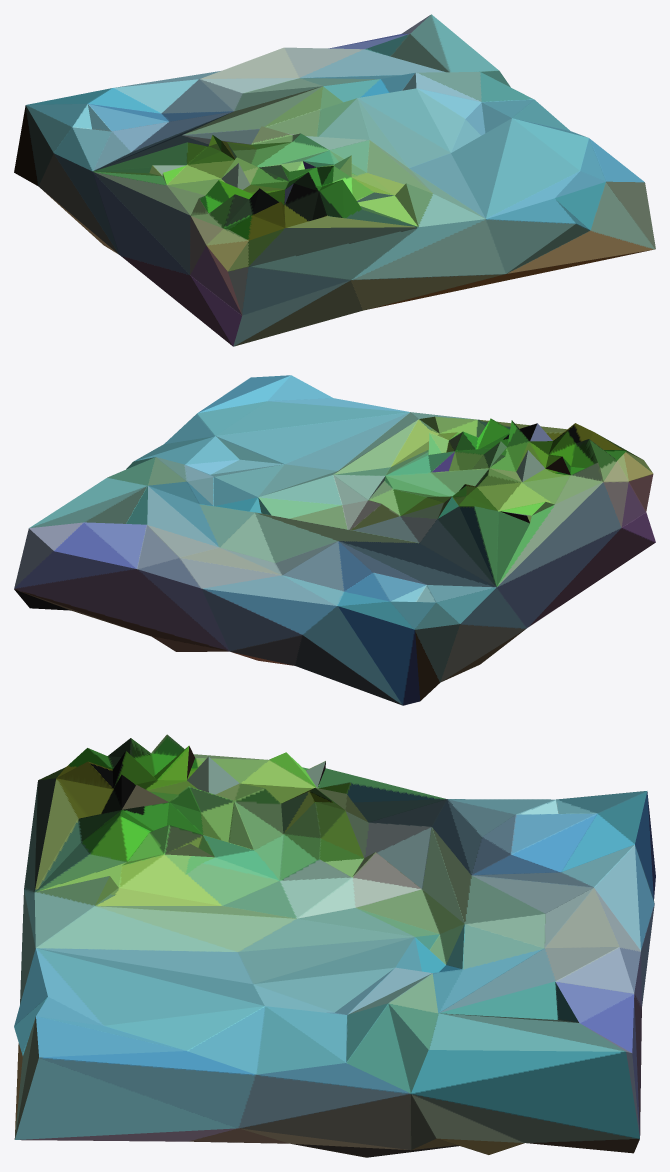
Rendered from lake.fbx.
3 views of the same model, one above another, from view 1: azimuth 30°, elevation 25°; view 2: azimuth 150°, elevation 25°; view 3: azimuth 270°, elevation 25° (orthographic). The views are drawn at different scales.
Parts seen in each view (by area): view 1: Mesh_0; view 2: Mesh_0; view 3: Mesh_0.
Boxes of the visible parts, box(x1,y1,x2,y2) form: Mesh_0: box(14, 14, 655, 346); Mesh_0: box(14, 375, 655, 705); Mesh_0: box(14, 734, 655, 1157).
Size of the model in its own units: 118 by 46.92 by 114.
Materials: 1 (1 with a texture image).
